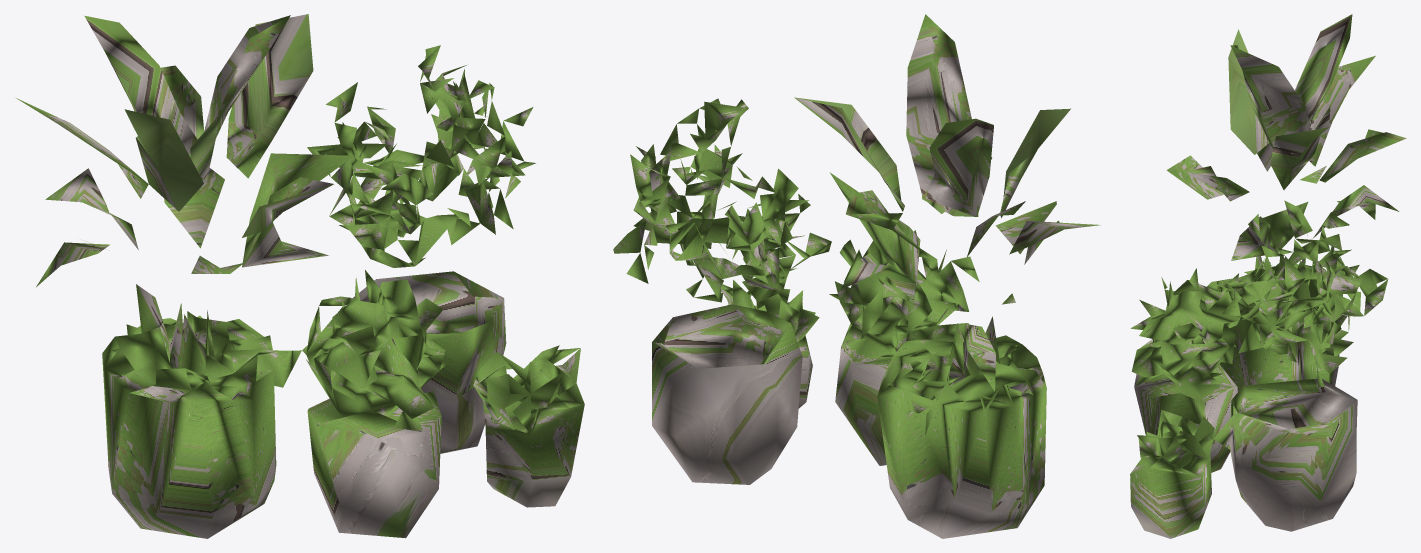
Rendered from pots_lod1.glb.
3 views of the same model, side by side, from view 1: azimuth 30°, elevation 25°; view 2: azimuth 150°, elevation 25°; view 3: azimuth 270°, elevation 25° (orthographic). The views are drawn at different scales.
Size of the model in its own units: 1.63 by 1.59 by 0.9871.
1 material, 1 textured.
